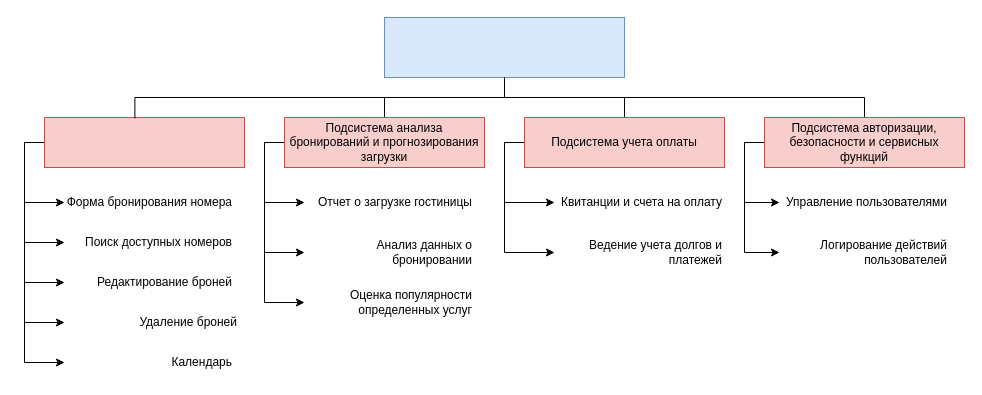
Image size: 982x395. Some labels were removed from this diagram. The shapes that lost their labels are listed below. From the top down, each one's centre as x and y in pixels, then its label:
At point (504, 47): "Информационная система".
At point (144, 142): "Подсистема бронирования номеров для сотрудников гостиницы".
